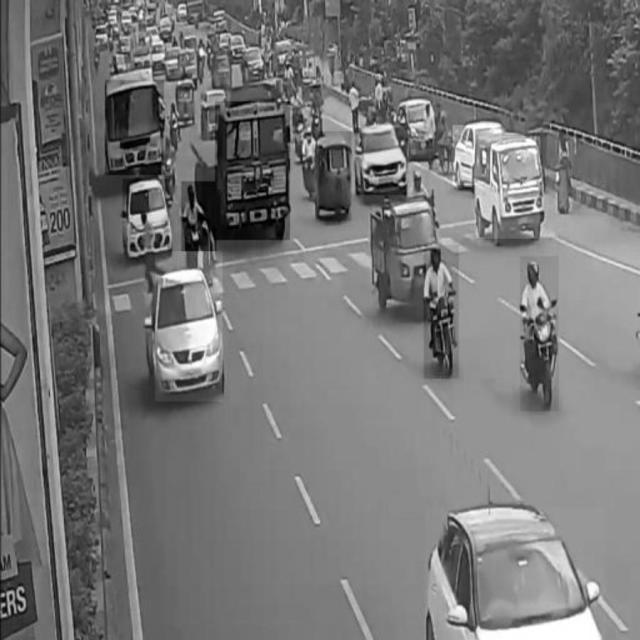accident: (181, 182, 216, 290)
person: (556, 140, 573, 213)
vehicle: (425, 507, 605, 640), (215, 101, 289, 239), (154, 252, 222, 402), (365, 200, 437, 311), (477, 136, 541, 238), (520, 256, 558, 410), (105, 80, 163, 176), (424, 245, 459, 379), (356, 127, 408, 195), (122, 179, 170, 247), (453, 125, 501, 185), (319, 132, 351, 222)
